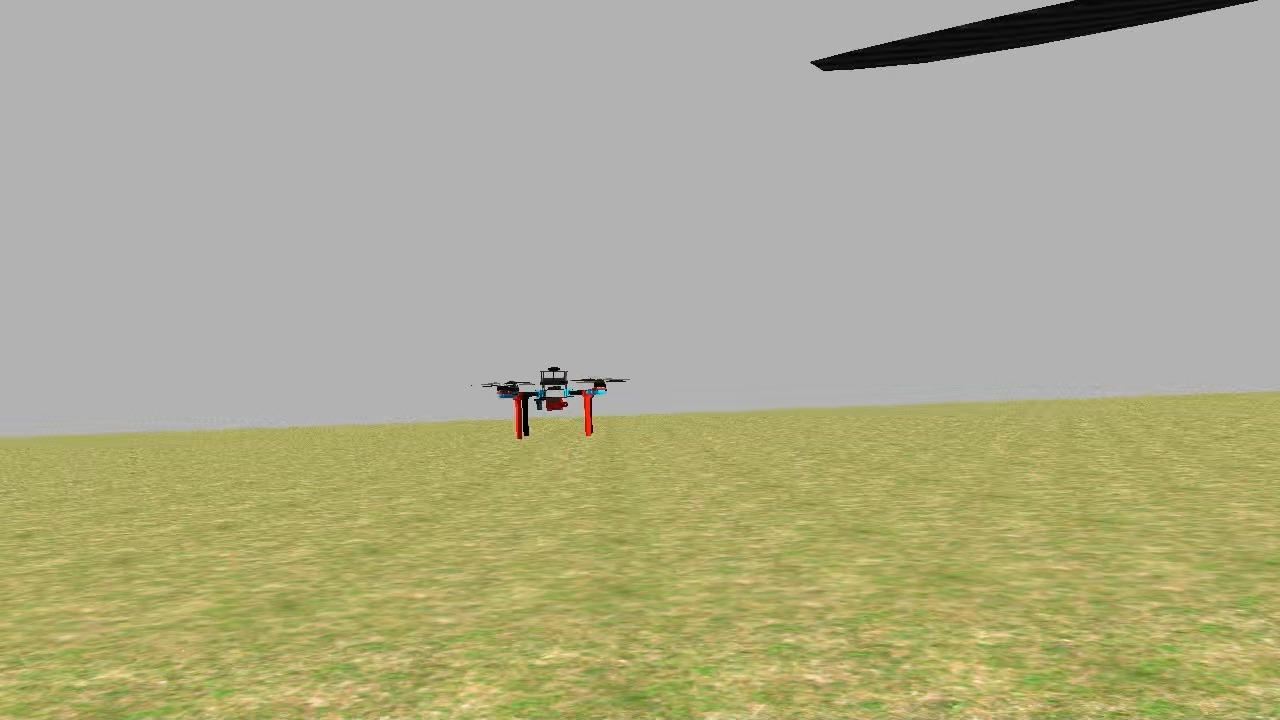UAV: (488, 360, 620, 436)
